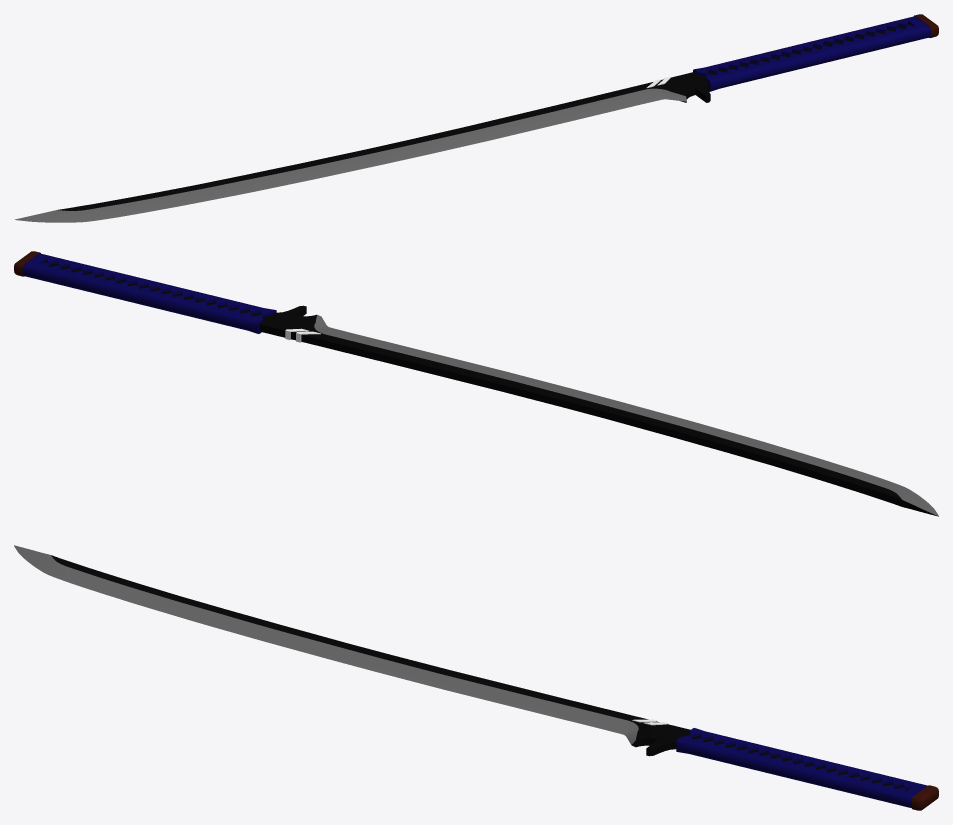
File: Nox.fbx
3 renders of one model, top to bottom at view 1: azimuth 30°, elevation 25°; view 2: azimuth 150°, elevation 25°; view 3: azimuth 330°, elevation 25°, orthographic. The views are drawn at different scales.
Visible parts, largest first — view 1: Plane (×3); view 2: Plane (×3); view 3: Plane (×3).
Boxes of the visible parts, bbox=[...] form: Plane (×3): bbox=[15, 16, 930, 222]; Plane (×3): bbox=[22, 253, 938, 516]; Plane (×3): bbox=[14, 545, 927, 807].
Bounding box in the file's own units: 97.88 × 1.29 × 9.6.
